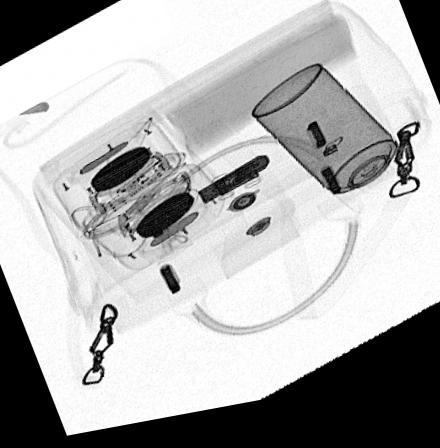Sprayer: (250, 72, 422, 230)
